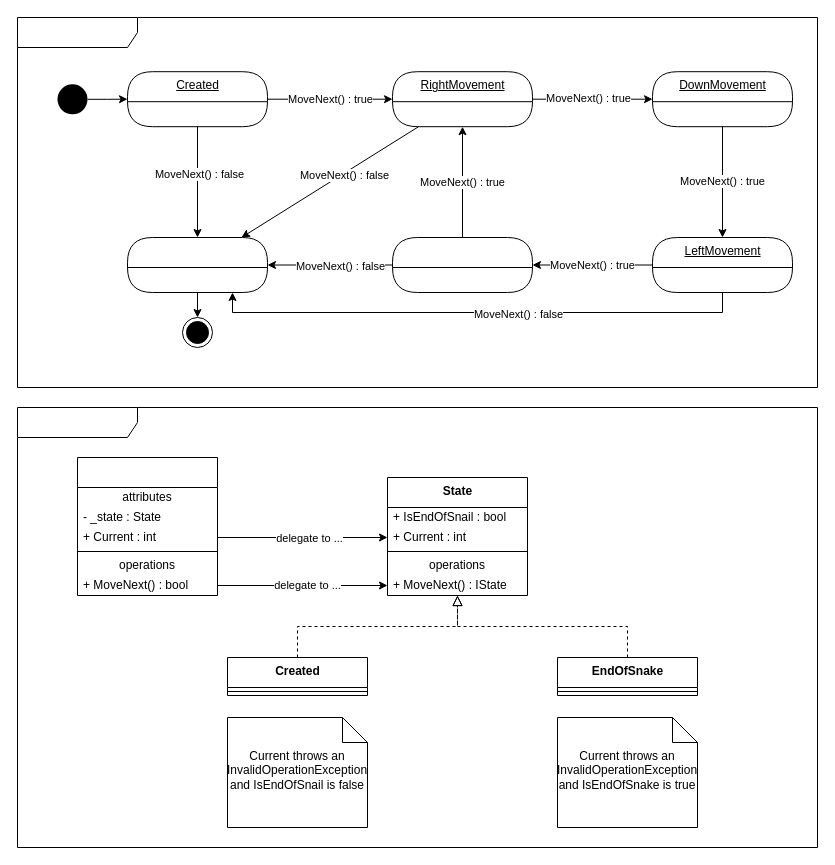
The diagram is 835 pixels wide and 865 high, and some of its shapes have lost their labels. The shapes that lost their labels are listed below. From the top down, each one's box as (x1, y1, x2, y2) in pixels, then its label:
(16, 16, 818, 388): State machine
(126, 236, 268, 292): EndOfSnail
(392, 236, 532, 292): UpMovement
(76, 456, 218, 596): SnailEnumerator
(16, 406, 818, 848): Class Diagram
